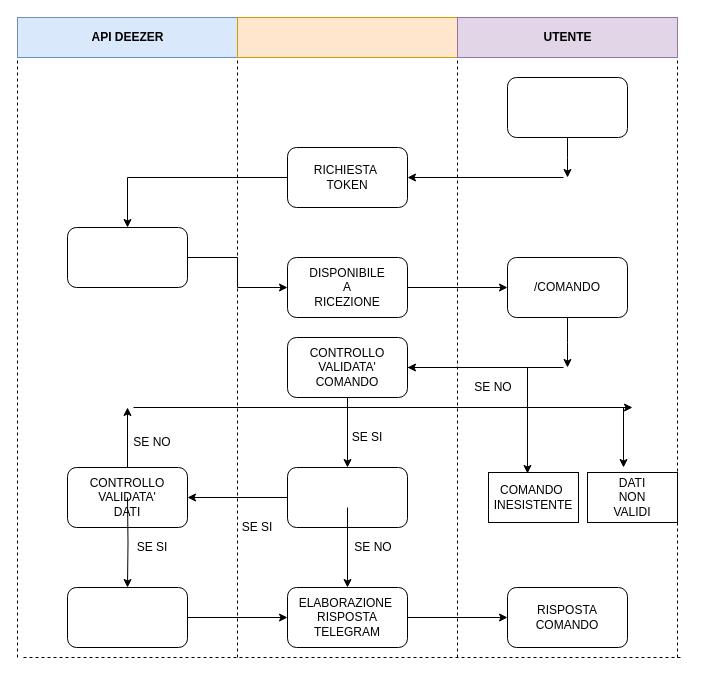
Image size: 702x676. Some labels were removed from this diagram. The shapes that lost their labels are listed below. From the top down, each one's box as (x1, y1, x2, y2) in pixels, then its label:
(236, 16, 458, 58): BOT
(506, 76, 628, 138): AVVIO RASTSUOND
(66, 226, 188, 288): GENERAZIONE TOKEN
(286, 466, 408, 528): CONTROLLO NECESSITA' CHIAMATA API
(66, 586, 188, 648): ELABORAZIONE JSON DI RISPOSTA
